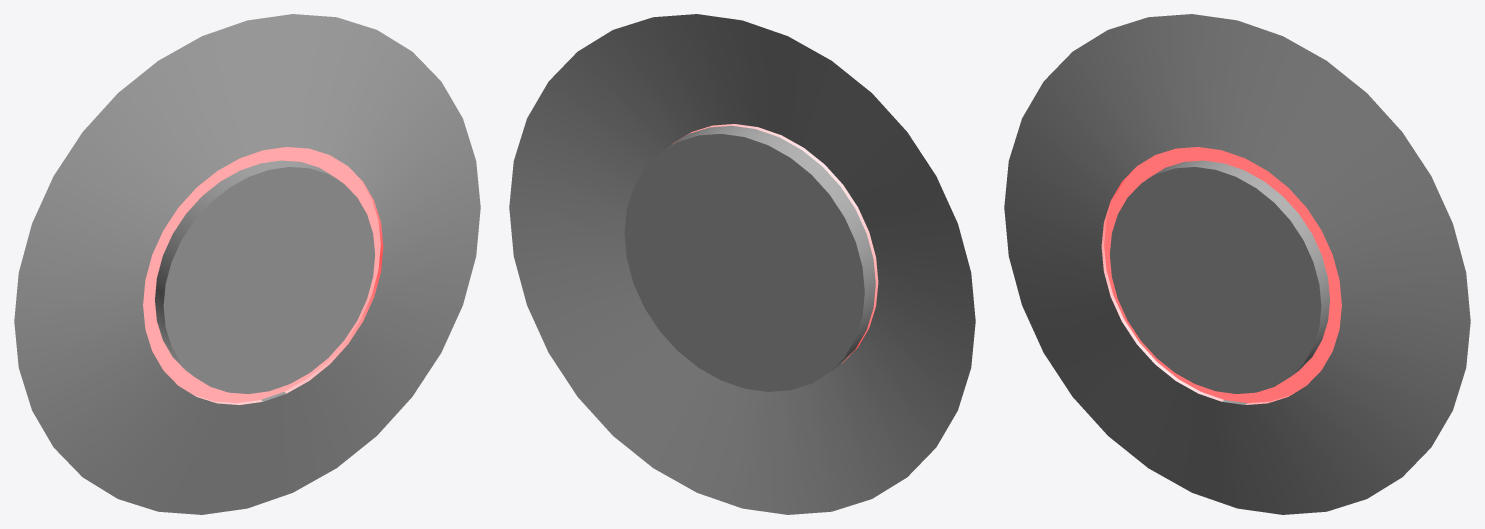
Rendered from liftButton_red.glb.
The picture shows the model from 3 angles, left to right: view 1: azimuth 30°, elevation 25°; view 2: azimuth 150°, elevation 25°; view 3: azimuth 330°, elevation 25°; orthographic projection.
Visible parts, largest first — view 1: liftButton; view 2: liftButton; view 3: liftButton.
Boxes of the visible parts, <box> form: liftButton: <box>14,14,480,514</box>; liftButton: <box>509,14,975,514</box>; liftButton: <box>1004,14,1470,514</box>.
Size of what is drawn, in the model's own units: 0.2416 by 0.2416 by 0.0196.
